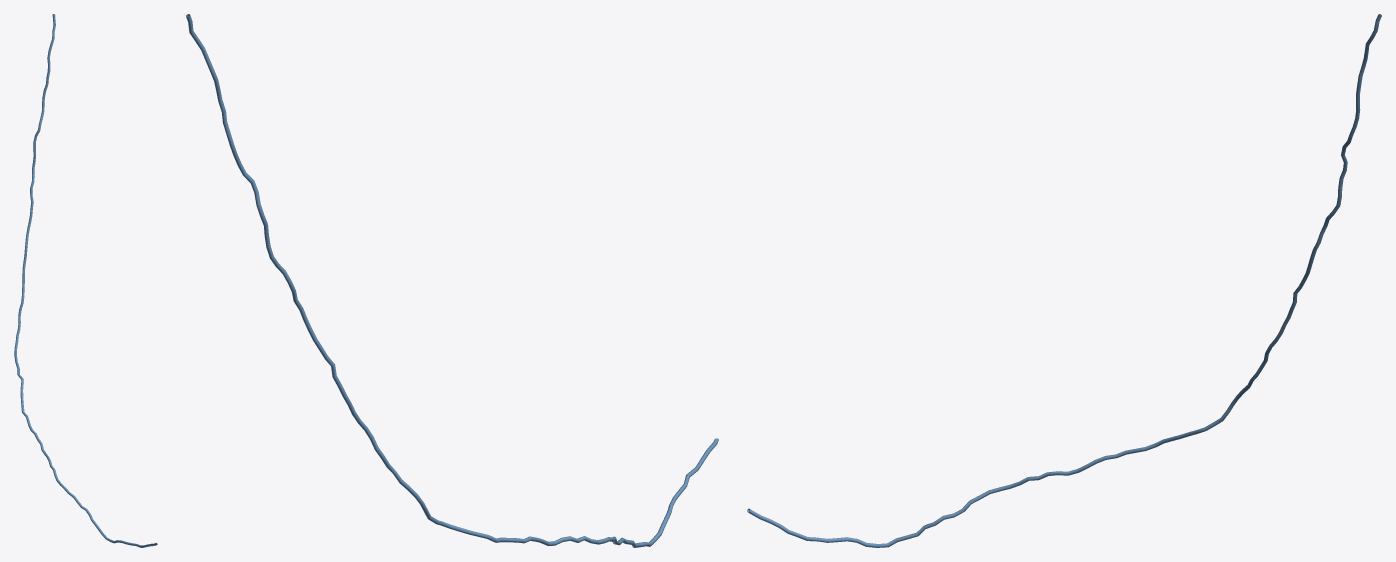
File: sweep199.fbx
3 views of the same model, side by side, from view 1: azimuth 30°, elevation 25°; view 2: azimuth 150°, elevation 25°; view 3: azimuth 270°, elevation 25° (orthographic). The views are drawn at different scales.
Parts seen in each view (by area): view 1: sweep199; view 2: sweep199; view 3: sweep199.
Boxes of the visible parts, x1=… form: sweep199: x1=14, y1=14, x2=157, y2=547; sweep199: x1=186, y1=14, x2=718, y2=547; sweep199: x1=747, y1=14, x2=1381, y2=547.
Bounding box in the file's own units: 1.03 × 3.32 × 3.12.
